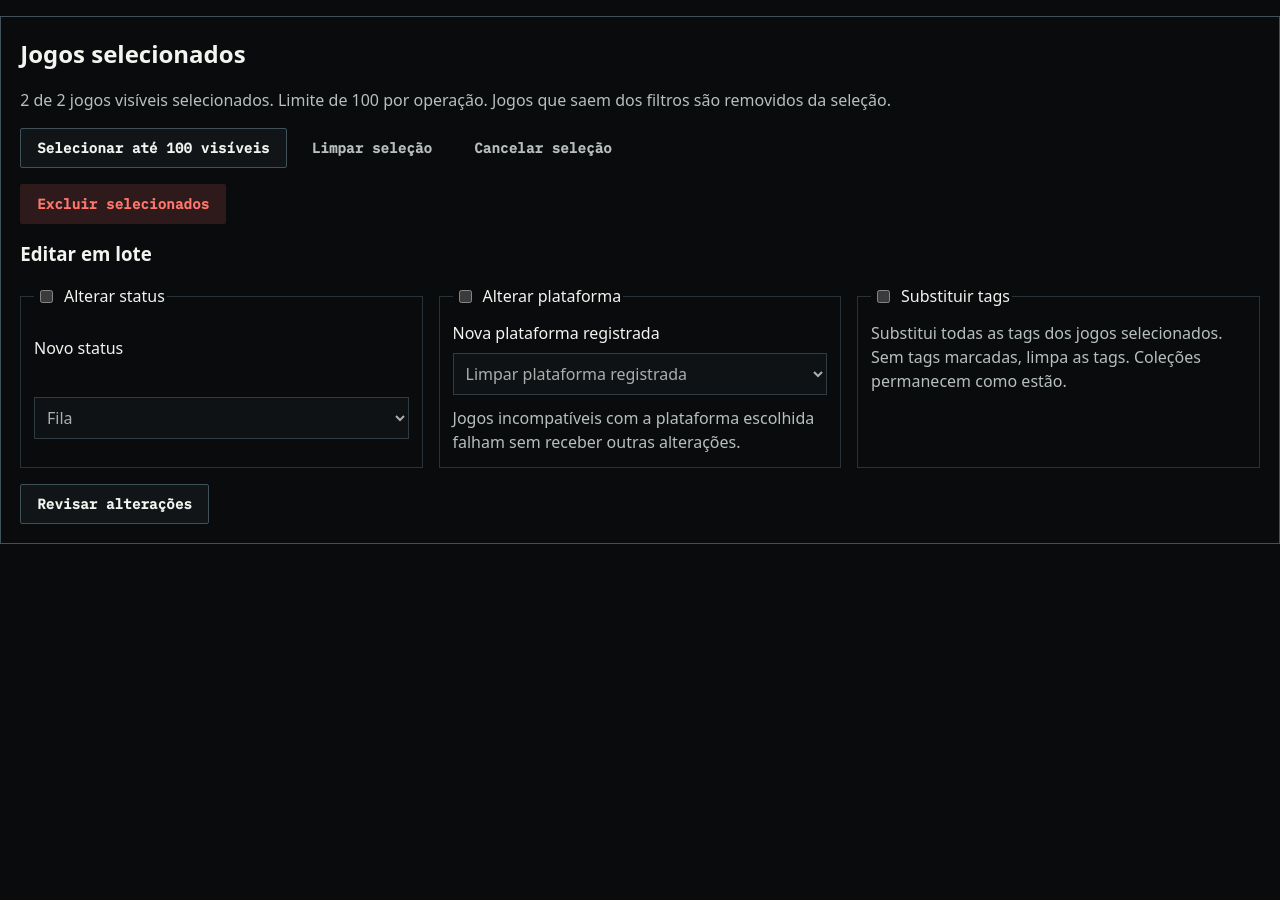
shows each partial result with the corresponding game name and requires a preview confirmation
Step 1. Click the checkbox labelled "Alterar status" → (46, 296), box [40,290,53,303]
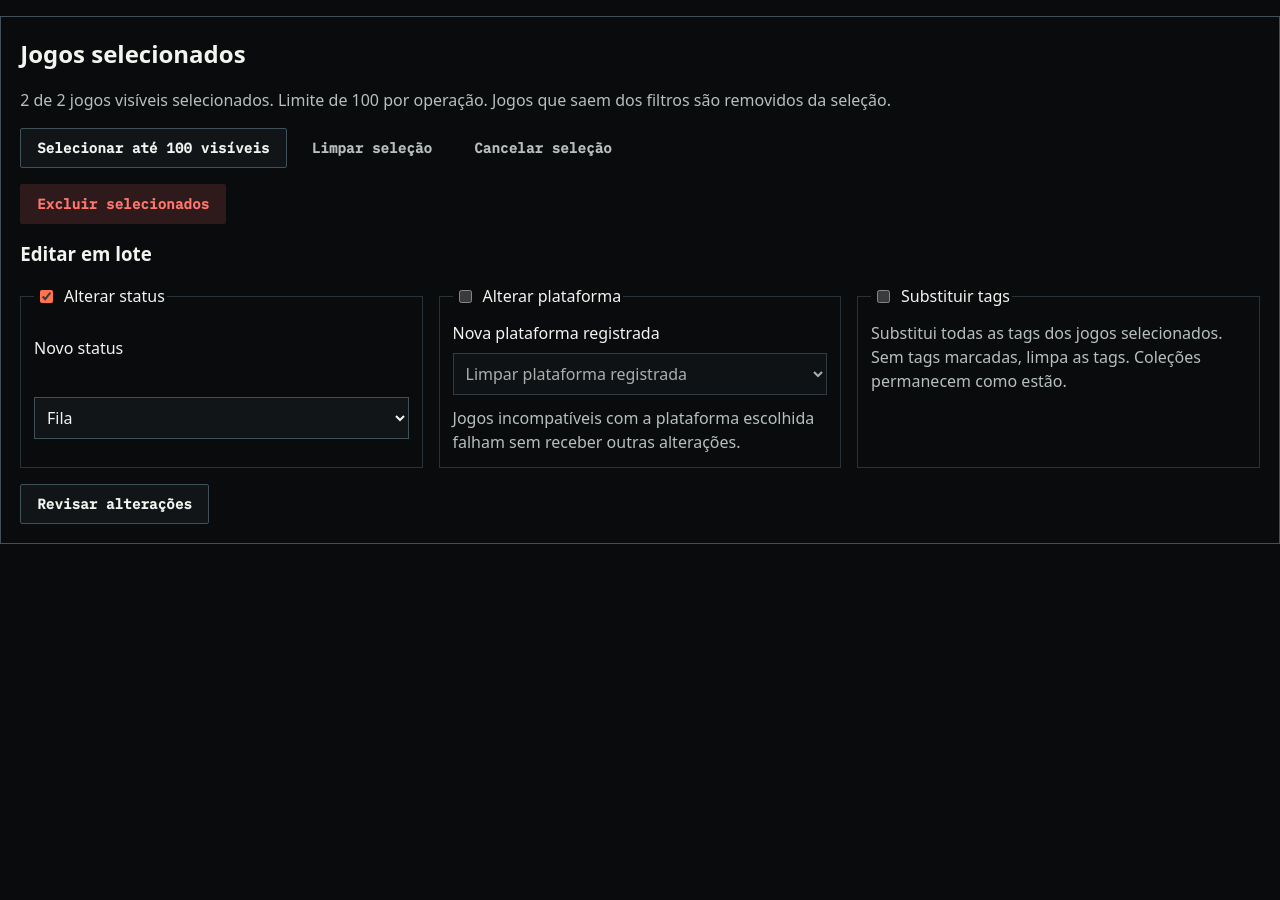
Step 2. Click the button "Revisar alterações" → (115, 504), box [20,484,209,524]
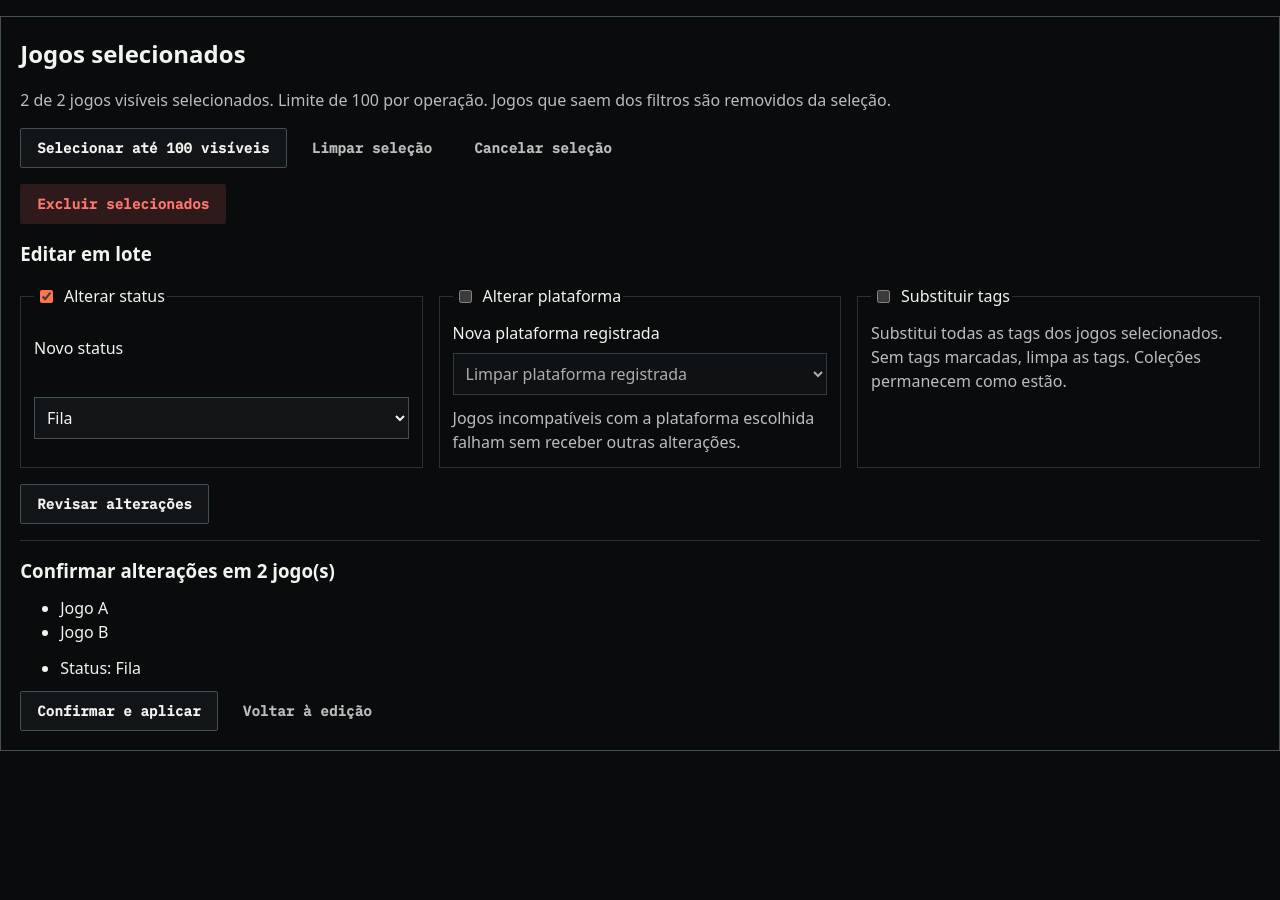
Result: the heading "Confirmar alterações em 2 jogo(s)" is shown at [20,558,335,583]
Step 3. Click the button "Confirmar e aplicar" → (119, 711), box [20,691,218,731]
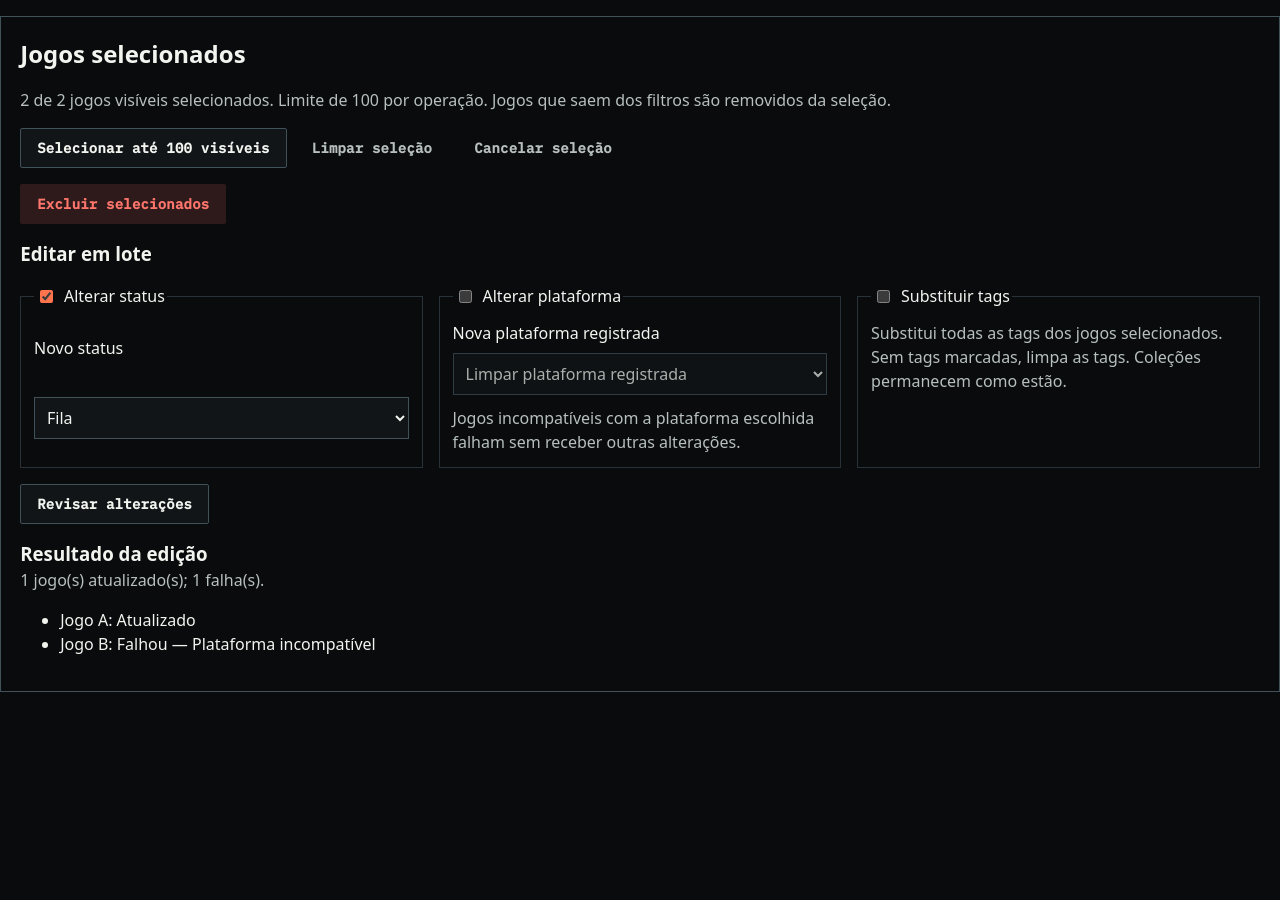
Result: the list item "Jogo A: Atualizado" is shown at [60,609,196,631]
Result: the list item "Jogo B: Falhou — Plataforma incompatível" is shown at [60,633,376,655]
